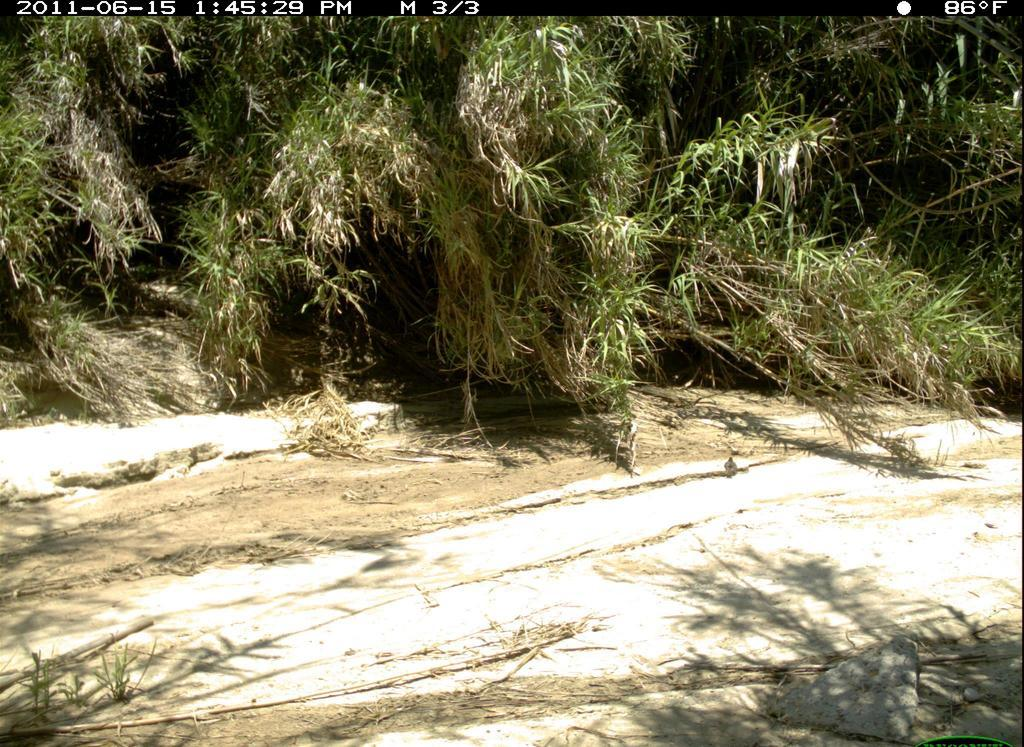bird: (720, 455, 742, 481)
